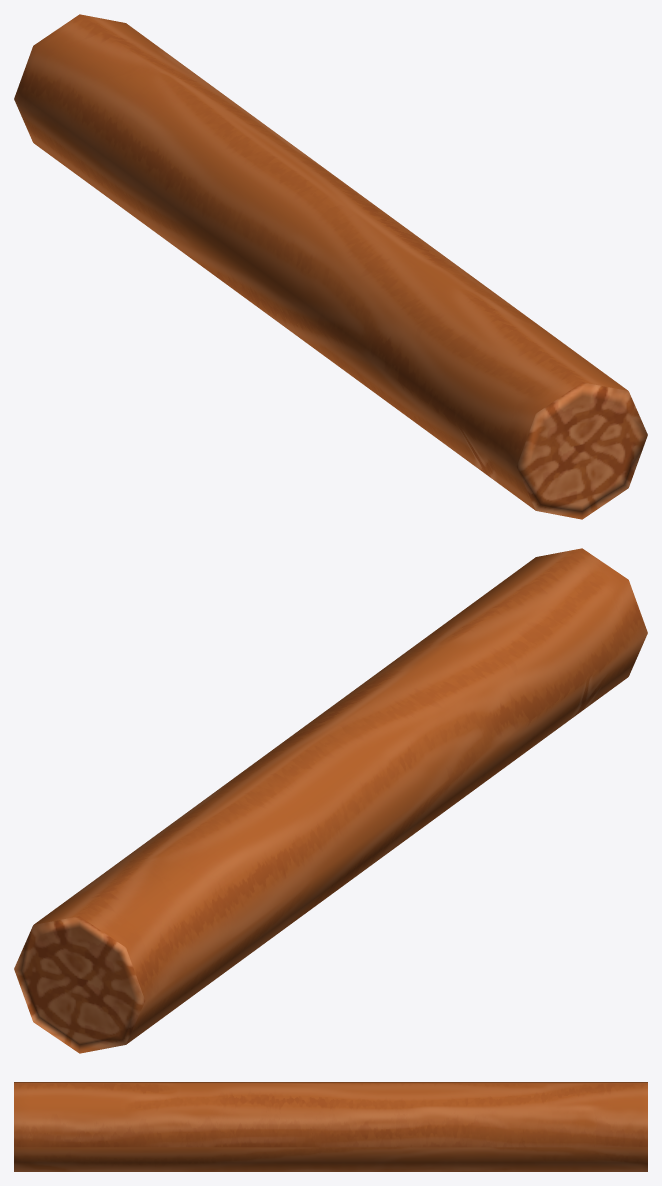
The model's file is Pile.fbx.
3 renders of one model, top to bottom at view 1: azimuth 30°, elevation 25°; view 2: azimuth 150°, elevation 25°; view 3: azimuth 270°, elevation 25°, orthographic. The views are drawn at different scales.
Visible parts, largest first — view 1: Cylinder.002; view 2: Cylinder.002; view 3: Cylinder.002.
Part boxes in pixels (<box>): Cylinder.002: <box>14,14,647,519</box>; Cylinder.002: <box>14,548,647,1053</box>; Cylinder.002: <box>14,1082,647,1171</box>.
Bounding box in the file's own units: 0.7429 × 0.7429 × 4.92.
